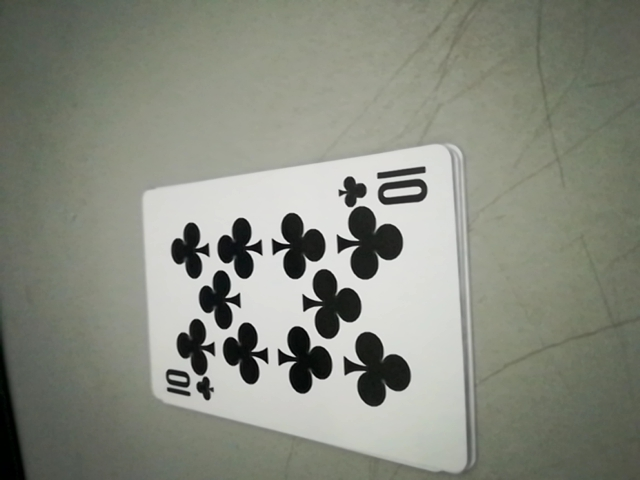mh 10: (335, 160, 438, 210), (160, 368, 218, 409)
